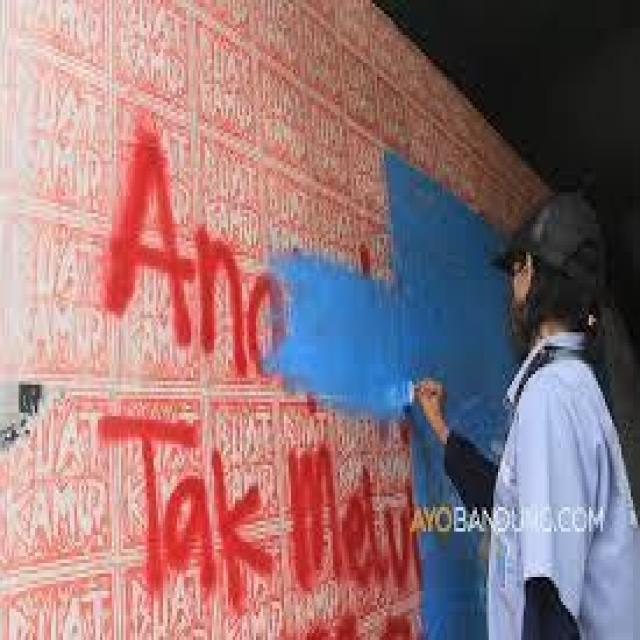nonspitting: (100, 126, 418, 612)
